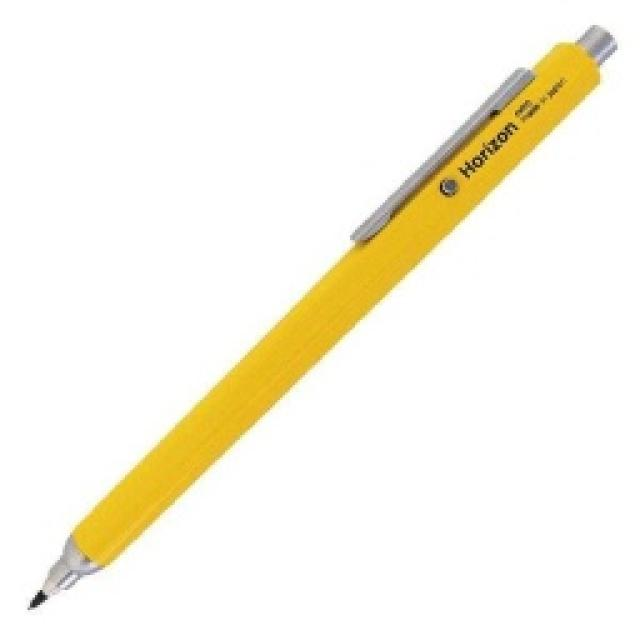pencil: (22, 20, 620, 612)
